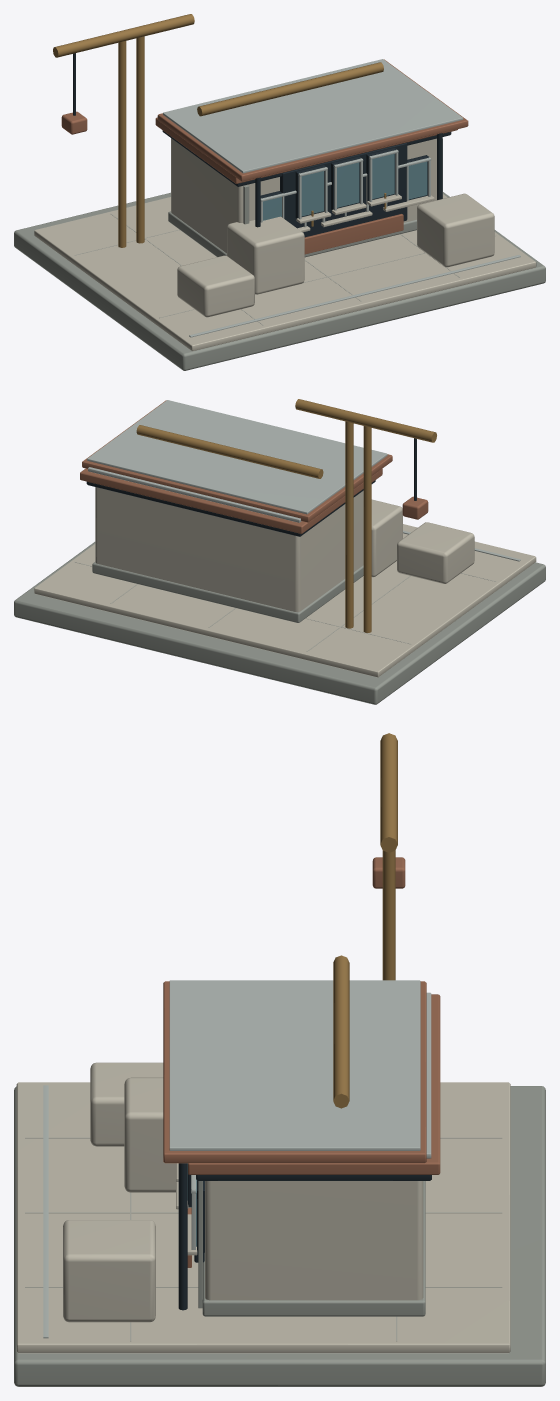
Rendered from idea-66e24dd7.glb.
3 renders of one model, top to bottom at view 1: azimuth 30°, elevation 25°; view 2: azimuth 150°, elevation 25°; view 3: azimuth 270°, elevation 25°, orthographic. The views are drawn at different scales.
Parts seen in each view (by area): view 1: WeBuild India; view 2: WeBuild India; view 3: WeBuild India.
Boxes of the visible parts, box(x1,y1,x2,y2) form: WeBuild India: box(14, 14, 545, 370); WeBuild India: box(14, 399, 545, 704); WeBuild India: box(14, 733, 545, 1386).
Size of the model in its own units: 4.9 by 3.02 by 3.9.
